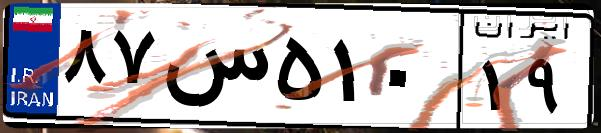0: (385, 28, 445, 110)
1: (330, 28, 385, 110), (475, 38, 525, 113)
5: (270, 28, 330, 110)
7: (110, 28, 158, 98)
8: (57, 26, 110, 100)
9: (525, 38, 570, 115)
س: (158, 20, 270, 120)
